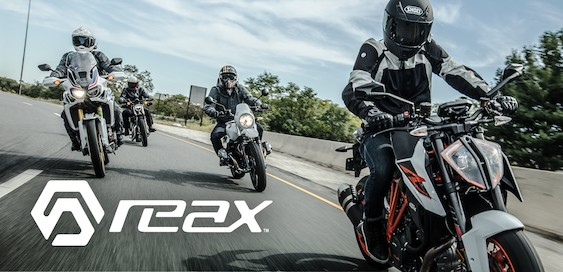helmet: (362, 1, 446, 68), (208, 45, 243, 94), (65, 19, 100, 57)
